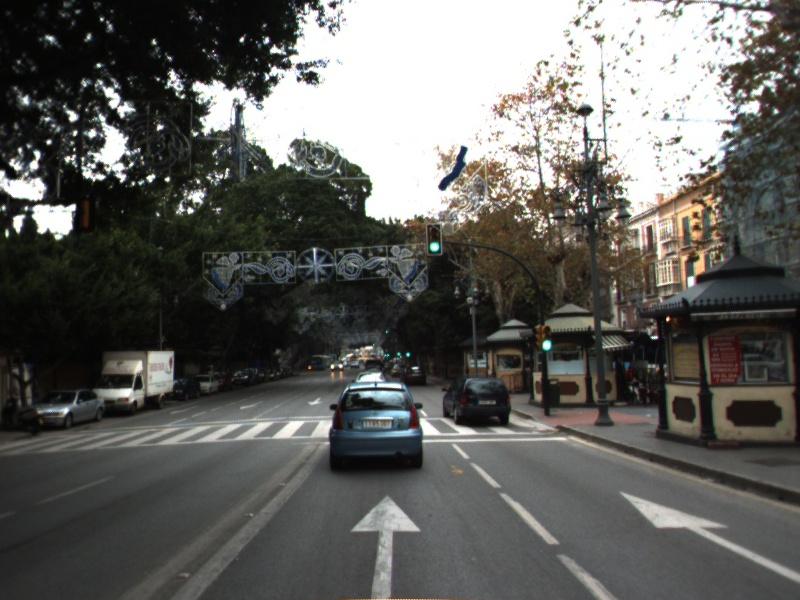STRAIGHT: (615, 487, 800, 583), (346, 490, 425, 600)
